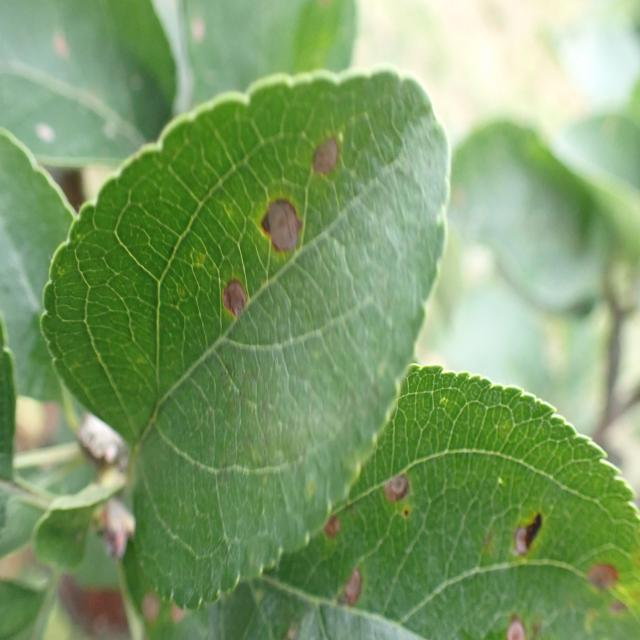frog-eye-leaf-spot: (37, 64, 452, 612), (224, 363, 640, 639)
